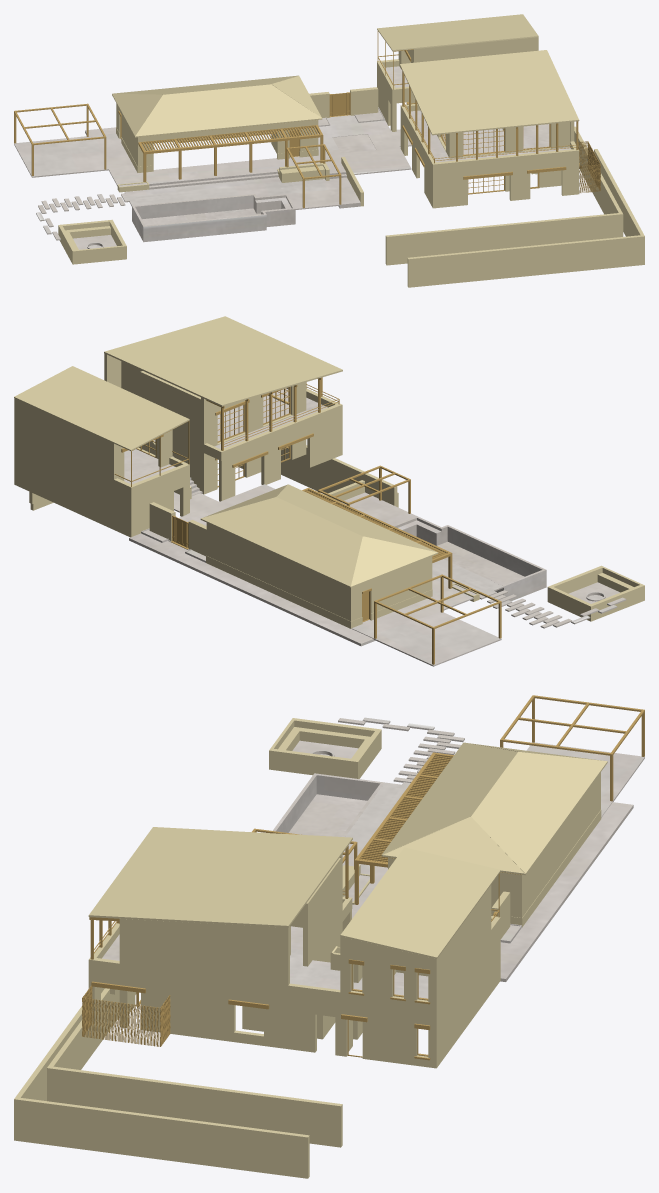
File: Casona04.glb
3 views of the same model, one above another, from view 1: azimuth 30°, elevation 25°; view 2: azimuth 150°, elevation 25°; view 3: azimuth 270°, elevation 25° (orthographic). The views are drawn at different scales.
Visible parts, largest first — view 1: C04W_Wall, C04W_Roof, C04W_Floor02, C04W_Floor01, C04W_Wood, C04W_Frames, C04W_Wall02; view 2: C04W_Wall, C04W_Roof, C04W_Floor02, C04W_Floor01, C04W_Wood, C04W_Frames, C04W_Wall02; view 3: C04W_Wall, C04W_Roof, C04W_Floor02, C04W_Wood, C04W_Floor01, C04W_Wall02.
Boxes of the visible parts, box(x1,y1,x2,y2) form: C04W_Wall: box(58, 37, 644, 287); C04W_Roof: box(112, 14, 579, 137); C04W_Floor02: box(14, 107, 411, 249); C04W_Floor01: box(132, 66, 570, 242); C04W_Wood: box(14, 69, 600, 208); C04W_Frames: box(377, 31, 550, 194); C04W_Wall02: box(118, 50, 579, 179); C04W_Wall: box(14, 353, 644, 628); C04W_Roof: box(14, 316, 438, 587); C04W_Floor02: box(129, 484, 626, 666); C04W_Floor01: box(124, 388, 546, 601); C04W_Wood: box(171, 377, 501, 664); C04W_Frames: box(114, 387, 290, 487); C04W_Wall02: box(121, 388, 371, 593); C04W_Wall: box(14, 718, 601, 1178); C04W_Roof: box(88, 742, 607, 958); C04W_Floor02: box(292, 717, 644, 981); C04W_Wood: box(82, 695, 644, 1046); C04W_Floor01: box(102, 773, 428, 998); C04W_Wall02: box(91, 959, 430, 1060).
Bounding box in the file's own units: 50.64 × 13.36 × 35.97.
3 materials, 1 textured.
